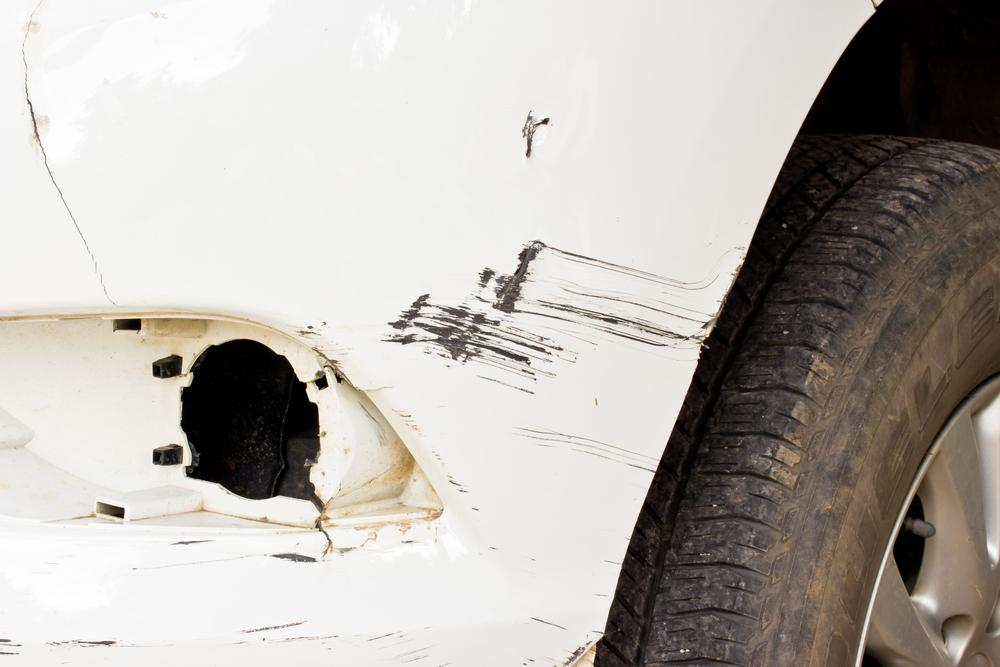crack: (18, 0, 121, 314), (309, 489, 336, 553)
scratch: (302, 229, 750, 667), (0, 536, 471, 667)
